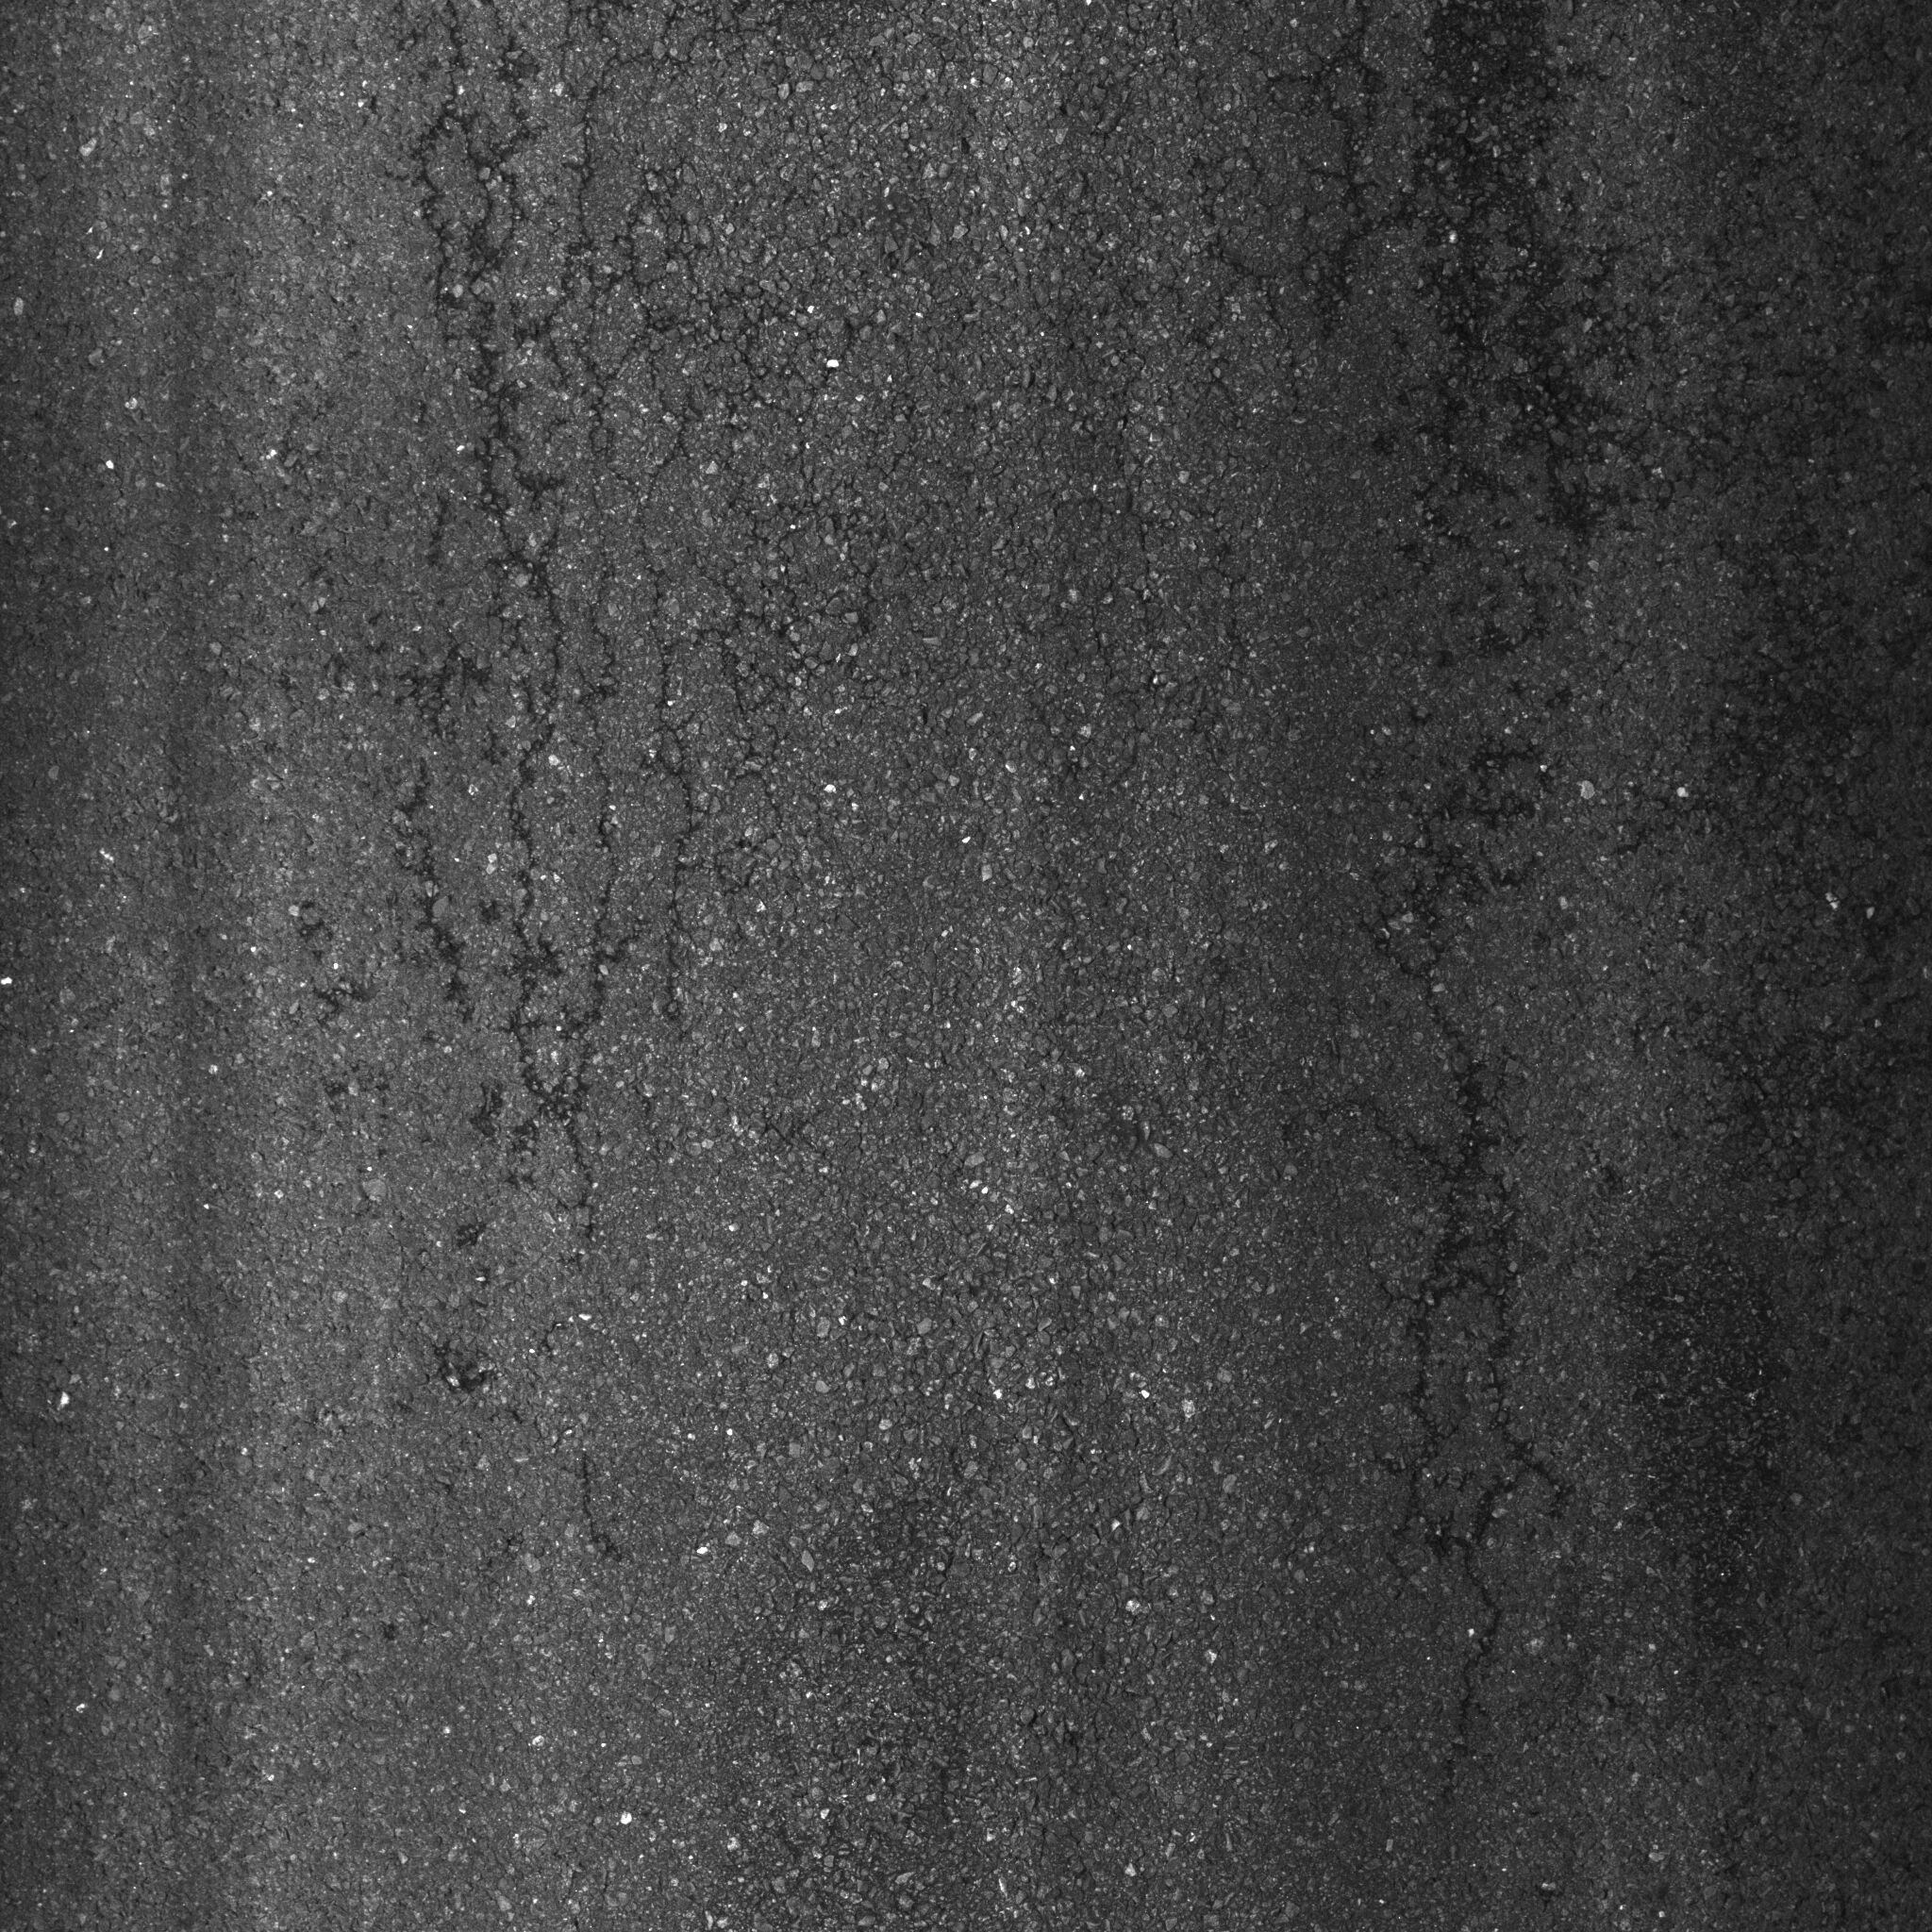alligator: (218, 14, 970, 1578), (1196, 2, 1789, 1932)
